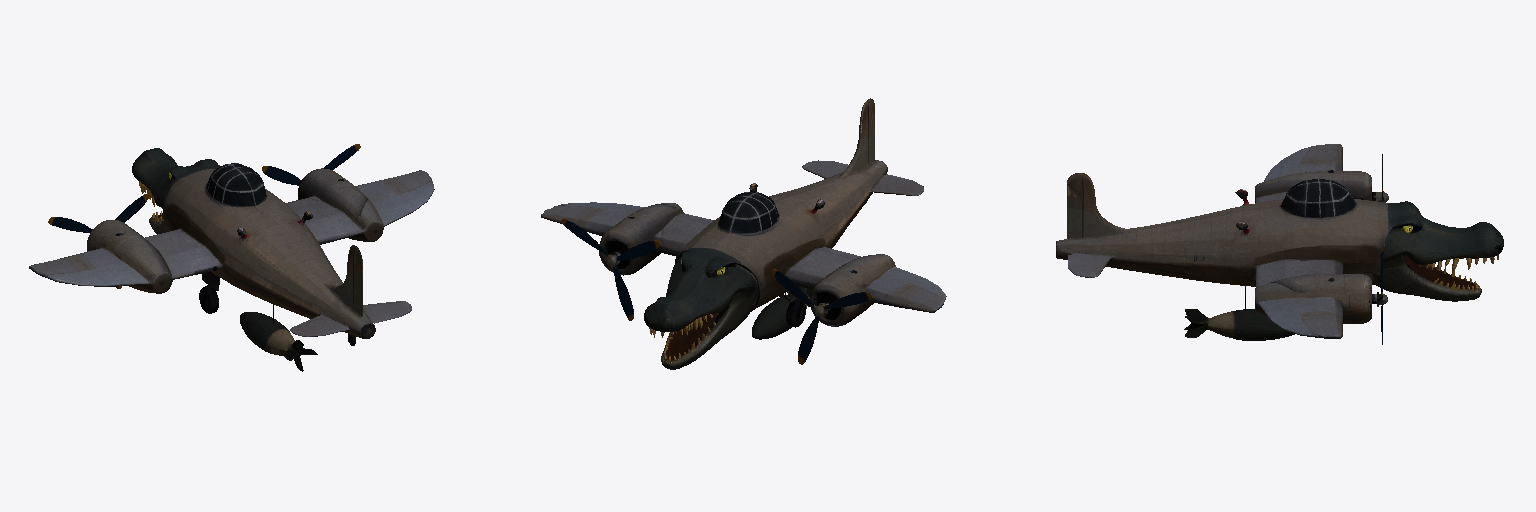
3 renders of one model, left to right at view 1: azimuth 30°, elevation 25°; view 2: azimuth 150°, elevation 25°; view 3: azimuth 270°, elevation 25°, orthographic.
Visible parts, largest first — view 1: Model004bakegroup001baked01; view 2: Model004bakegroup001baked01; view 3: Model004bakegroup001baked01.
Part boxes in pixels (x1,y1,x2,y2): Model004bakegroup001baked01: (29, 144, 434, 371); Model004bakegroup001baked01: (541, 98, 946, 369); Model004bakegroup001baked01: (1056, 144, 1503, 344).
Bounding box in the file's own units: 94.74 × 38.33 × 93.35.
2 materials, 2 textured.